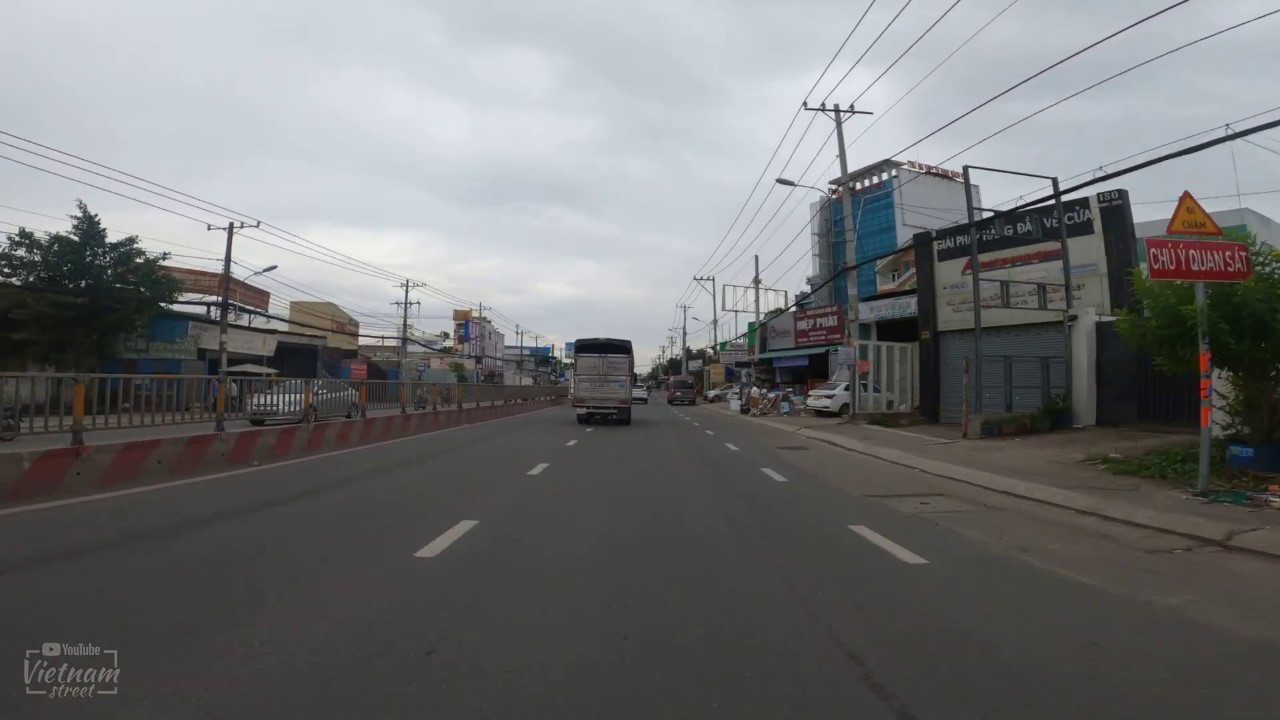di_cham: (1164, 190, 1224, 237)
